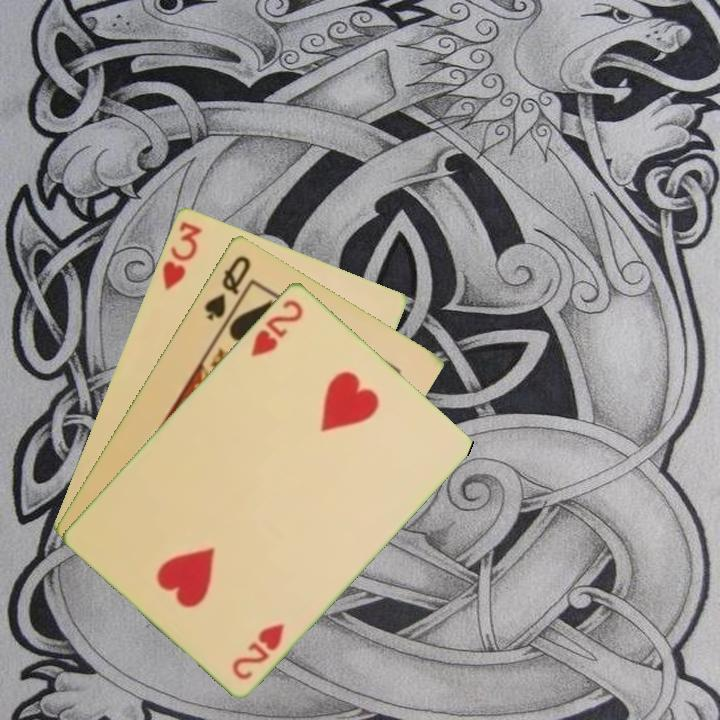2h: (228, 619, 288, 683), (247, 295, 306, 359)
3h: (158, 217, 205, 293)
Qs: (200, 251, 254, 323)
